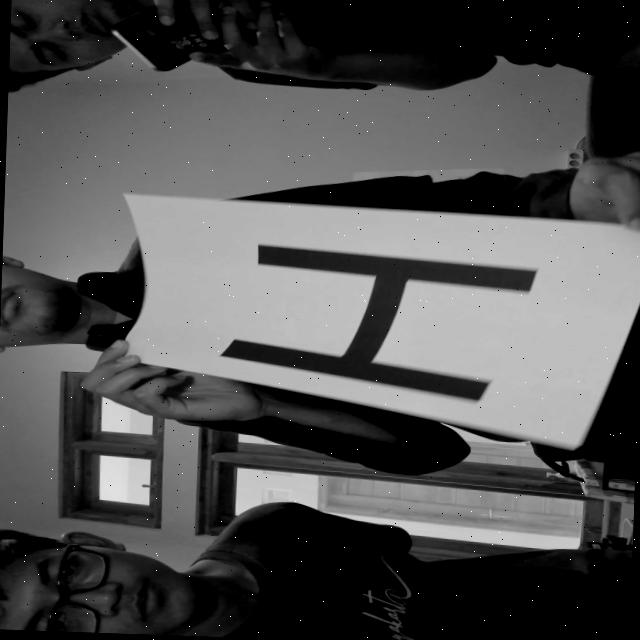h: (203, 237, 560, 409)
